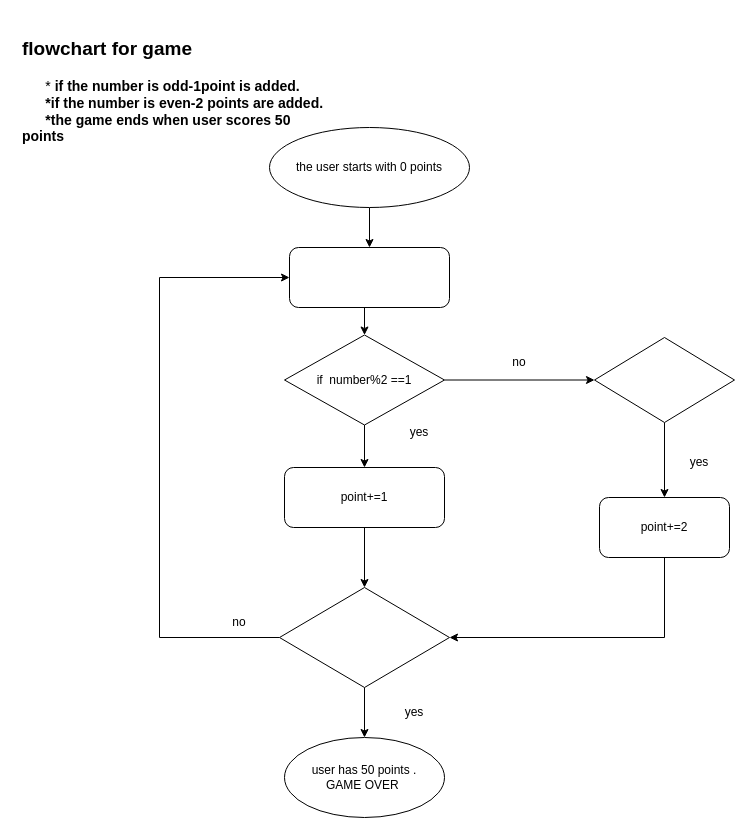
The diagram is 752 pixels wide and 835 high, and some of its shapes have lost their labels. Each missing label, with the centre of its shape:
if number%2==0: the point at 664,379
if point < 50: the point at 364,637
user rolls the dice: the point at 369,277
